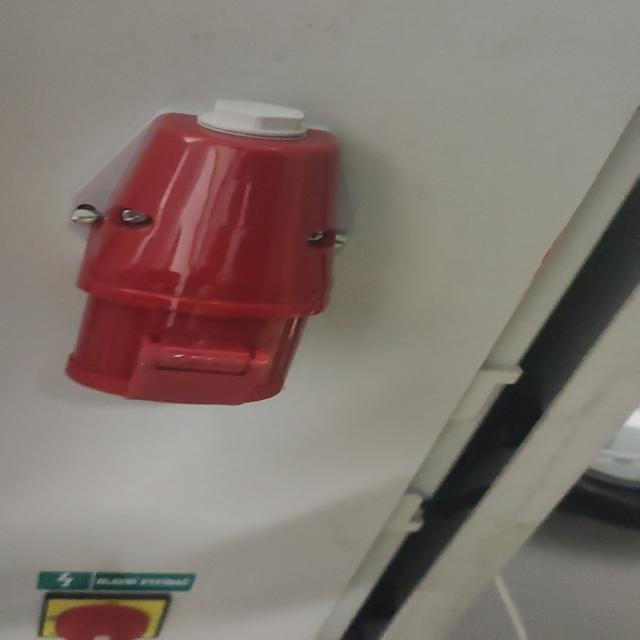400v socket down: (64, 101, 347, 408)
safety switch: (36, 592, 175, 638)
